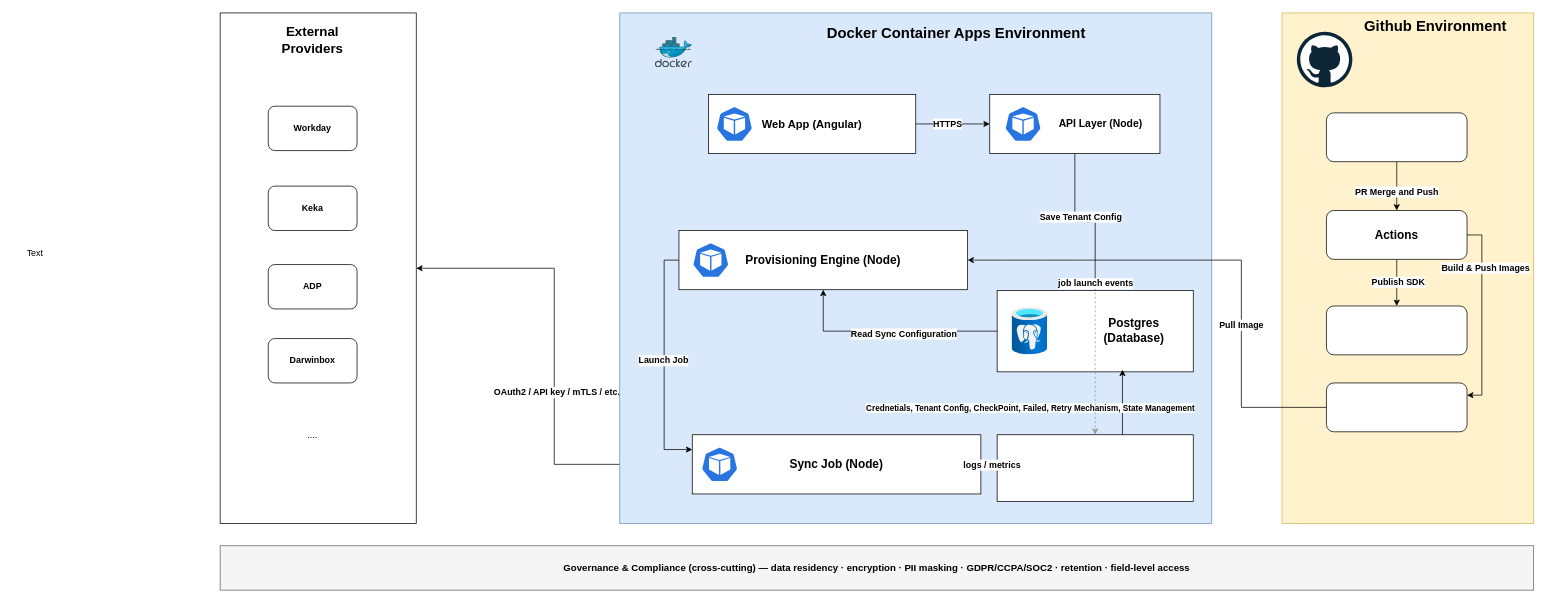
Some shapes in this 1547 by 603 pixel diagram are drawn without their labels. Here are the shapes that lost their labels. From the top down, the centre of each, then its label:
point (1396, 137): Repository
point (1396, 330): Packages
point (1396, 407): Container Registry
point (1094, 467): Observability & Ops (pino → Loki, Prometheus/Grafana)
